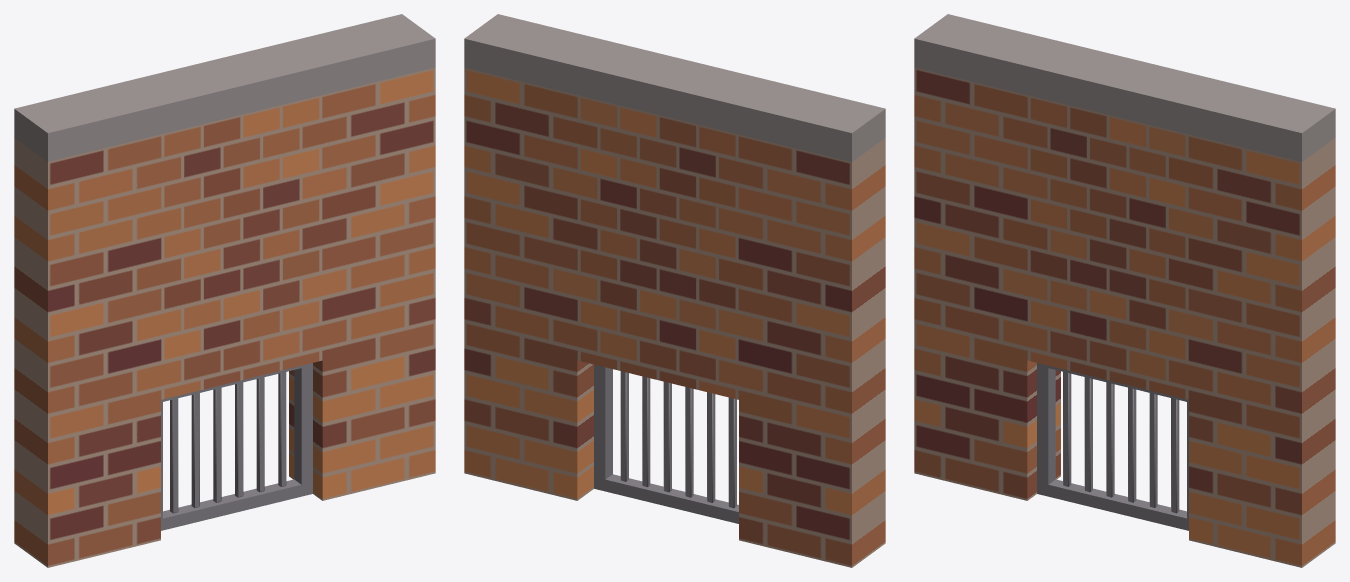
The model's file is wall-with-passage.glb.
3 views of the same model, side by side, from view 1: azimuth 30°, elevation 25°; view 2: azimuth 150°, elevation 25°; view 3: azimuth 330°, elevation 25° (orthographic).
Parts seen in each view (by area): view 1: wall-with-hole, grill; view 2: wall-with-hole, grill; view 3: wall-with-hole, grill.
Boxes of the visible parts, bbox=[...] form: wall-with-hole: bbox=[14, 14, 435, 567]; grill: bbox=[161, 363, 312, 530]; wall-with-hole: bbox=[464, 14, 885, 567]; grill: bbox=[594, 364, 738, 523]; wall-with-hole: bbox=[914, 14, 1335, 567]; grill: bbox=[1037, 363, 1188, 530].
Size of the model in its own units: 2 by 2.14 by 0.3007.
Materials: 3 (1 with a texture image).
